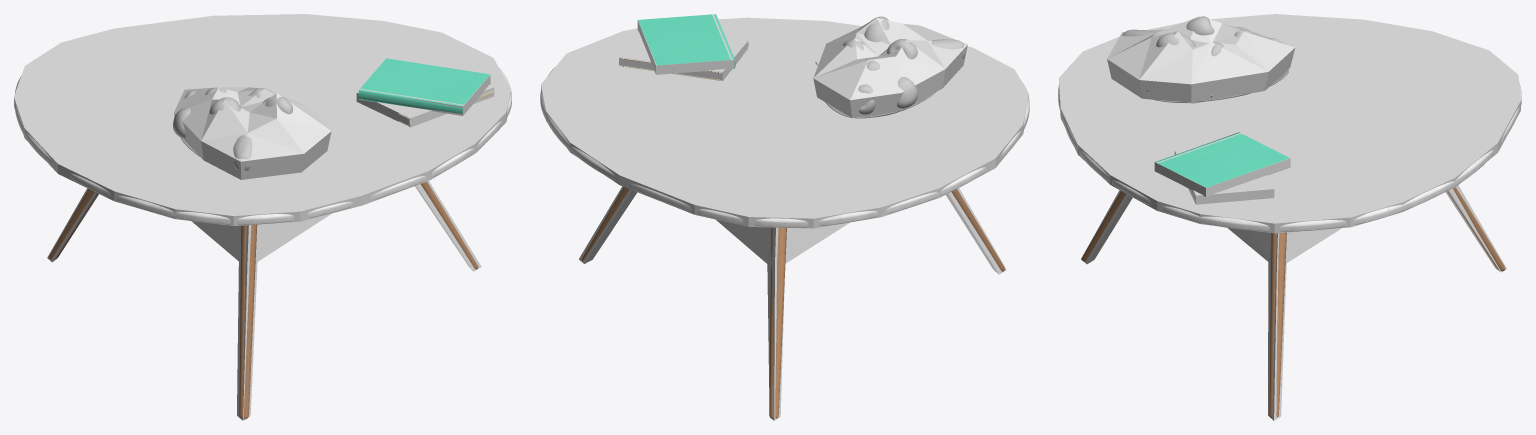
Rendered from Table.fbx.
3 views of the same model, side by side, from view 1: azimuth 30°, elevation 25°; view 2: azimuth 150°, elevation 25°; view 3: azimuth 270°, elevation 25° (orthographic).
Visible parts, largest first — view 1: Table_mash, Table; view 2: Table_mash, Table; view 3: Table_mash, Table.
Part boxes in pixels (x1=…): Table_mash: x1=14, y1=14, x2=511, y2=420; Table: x1=14, y1=58, x2=511, y2=419; Table_mash: x1=541, y1=14, x2=1028, y2=420; Table: x1=540, y1=14, x2=1029, y2=418; Table_mash: x1=1059, y1=14, x2=1520, y2=420; Table: x1=1058, y1=16, x2=1521, y2=417.
Size of the model in its own units: 246 by 147 by 230.
